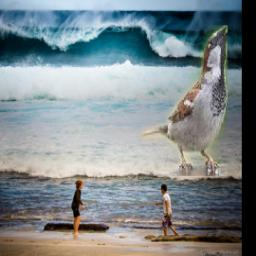Sparrow: (142, 26, 229, 177)
